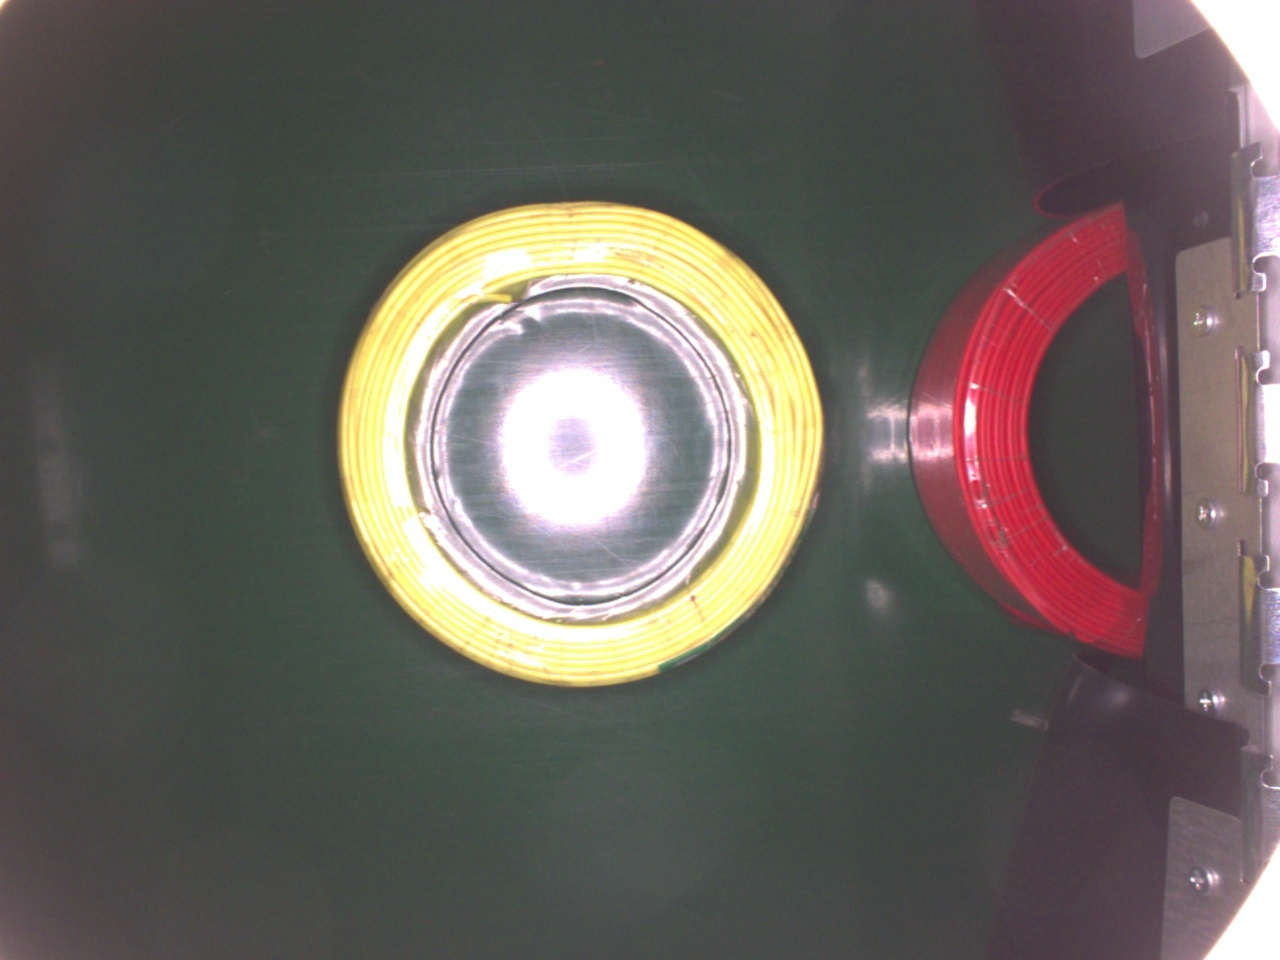red: (908, 198, 1161, 659)
yellow: (336, 197, 824, 688)
